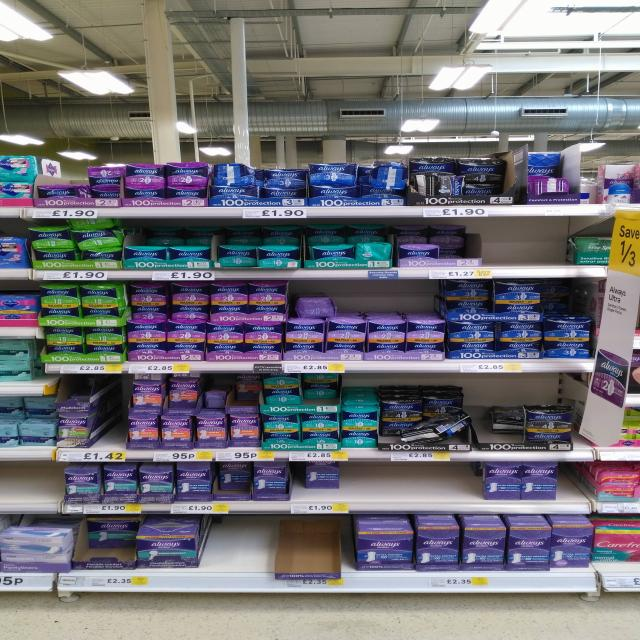void: (298, 517, 351, 597), (0, 462, 56, 516), (252, 518, 290, 594), (95, 375, 127, 462), (571, 387, 608, 460), (209, 516, 245, 591), (431, 460, 470, 513), (538, 214, 570, 278), (560, 460, 598, 513), (389, 458, 423, 514), (349, 459, 382, 511), (512, 221, 541, 277), (482, 217, 507, 280)
